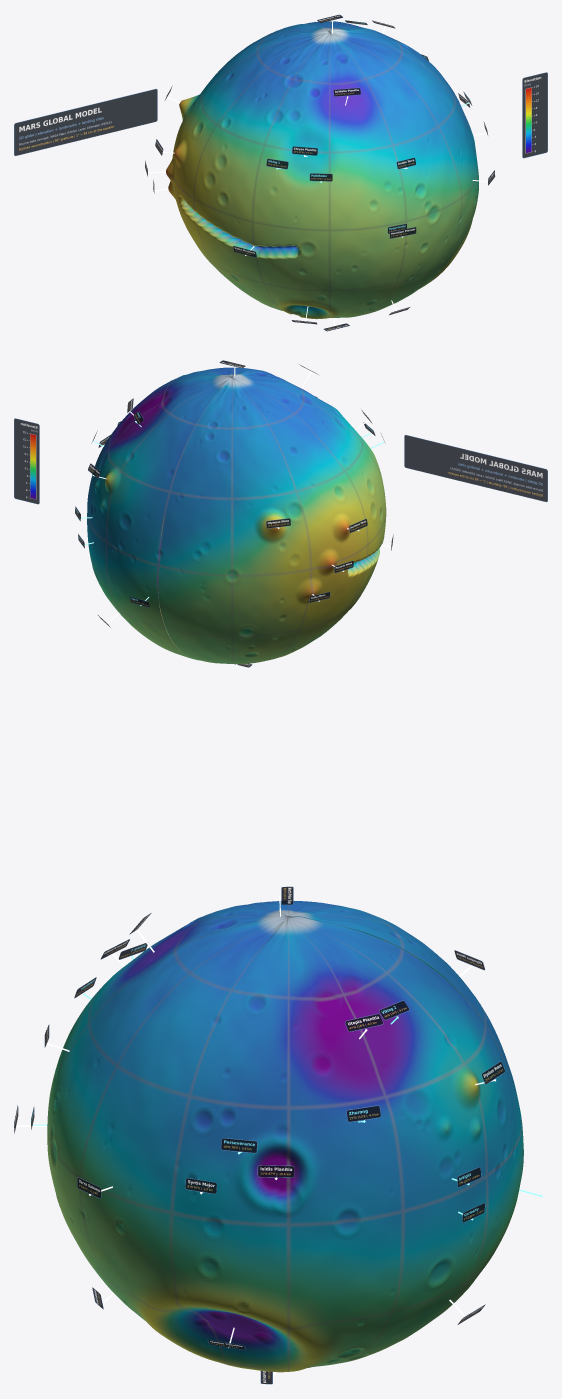
The model's file is 11_Mars_Global_Globe.glb.
The picture shows the model from 3 angles, top to bottom: view 1: azimuth 30°, elevation 25°; view 2: azimuth 150°, elevation 25°; view 3: azimuth 270°, elevation 25°; orthographic projection. The views are drawn at different scales.
Visible parts, largest first — view 1: Mars_Globe_Surface, Info_Title, Info_ElevationLegend; view 2: Mars_Globe_Surface, Info_Title, Info_ElevationLegend; view 3: Mars_Globe_Surface.
Part boxes in pixels (box(x1,y1,x2,y2)): Mars_Globe_Surface: box(166, 21, 478, 319); Info_Title: box(14, 89, 157, 155); Info_ElevationLegend: box(522, 72, 547, 158); Mars_Globe_Surface: box(87, 367, 386, 664); Info_Title: box(404, 435, 547, 502); Info_ElevationLegend: box(14, 418, 39, 504); Mars_Globe_Surface: box(47, 901, 523, 1372).
Bounding box in the file's own units: 20.8 × 11.32 × 11.41.
Materials: 34 (31 with a texture image).
